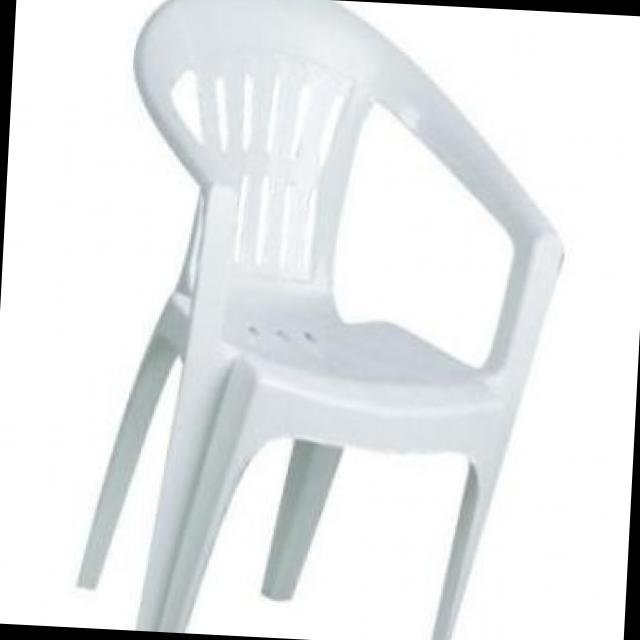Chair: (70, 0, 579, 640)
